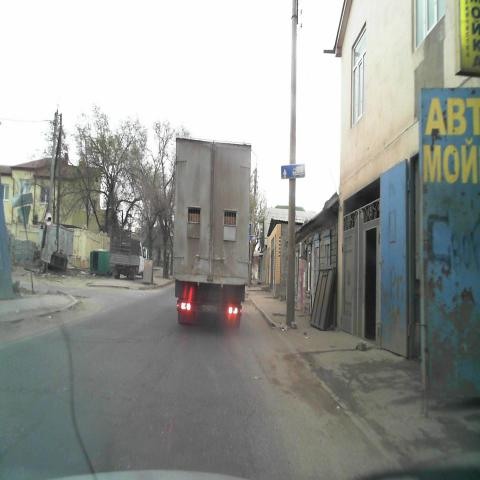3_4_1: (45, 210, 54, 226)
6_15_1: (281, 162, 304, 178)
